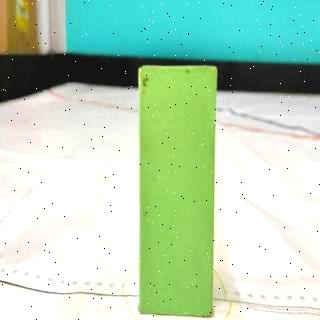greenbox: (139, 66, 214, 316)
